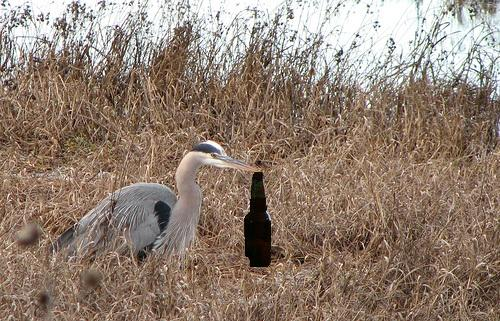tampered: (245, 173, 271, 267)
